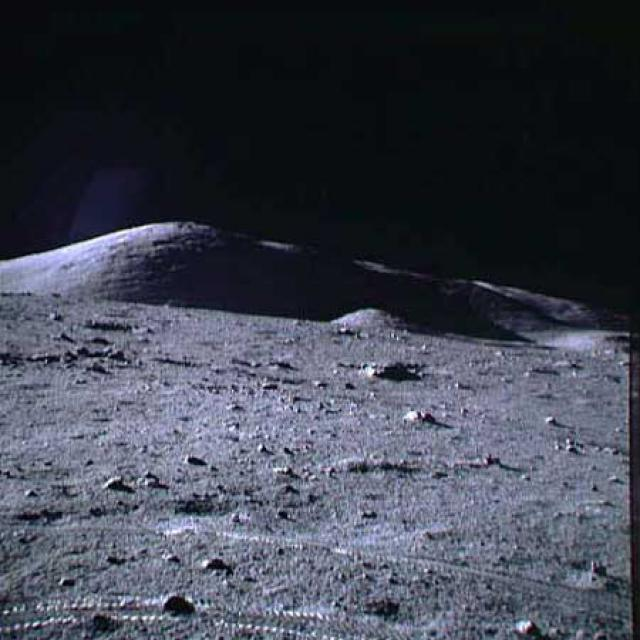crater: (72, 315, 152, 337)
rock: (400, 404, 440, 426), (372, 356, 408, 380), (157, 590, 192, 614), (196, 551, 228, 573), (100, 470, 124, 494)
